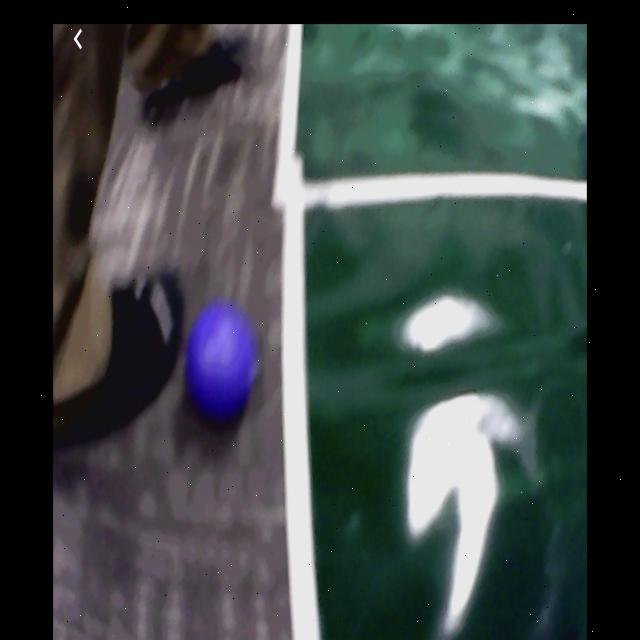ball: (189, 303, 255, 414)
